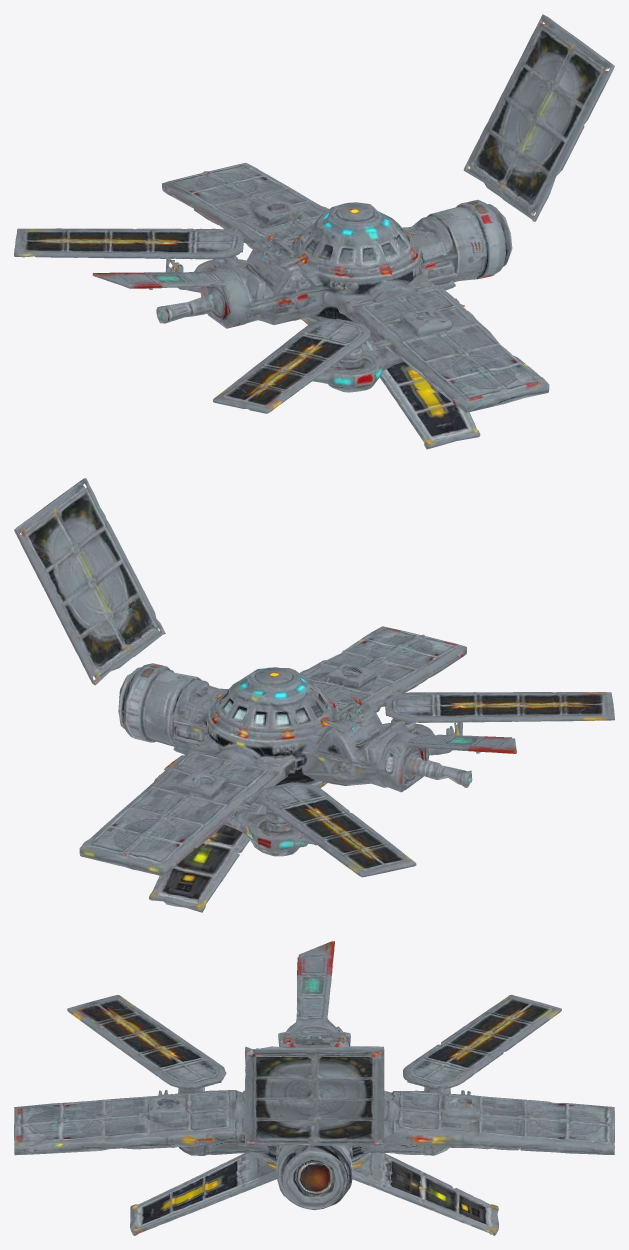
File: space_station.glb
The picture shows the model from 3 angles, top to bottom: view 1: azimuth 30°, elevation 25°; view 2: azimuth 150°, elevation 25°; view 3: azimuth 270°, elevation 25°; orthographic projection.
Size of the model in its own units: 1.72 by 0.9825 by 1.9.
Materials: 1 (1 with a texture image).
